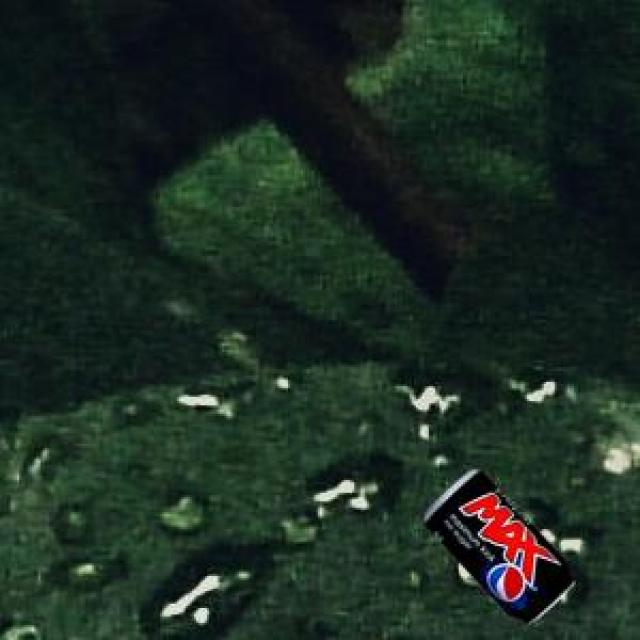logam: (421, 468, 571, 620)
